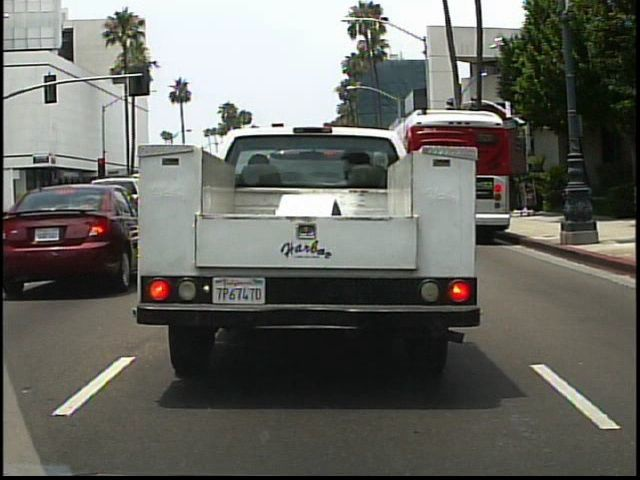person: (29, 195, 51, 239), (22, 198, 42, 232)
